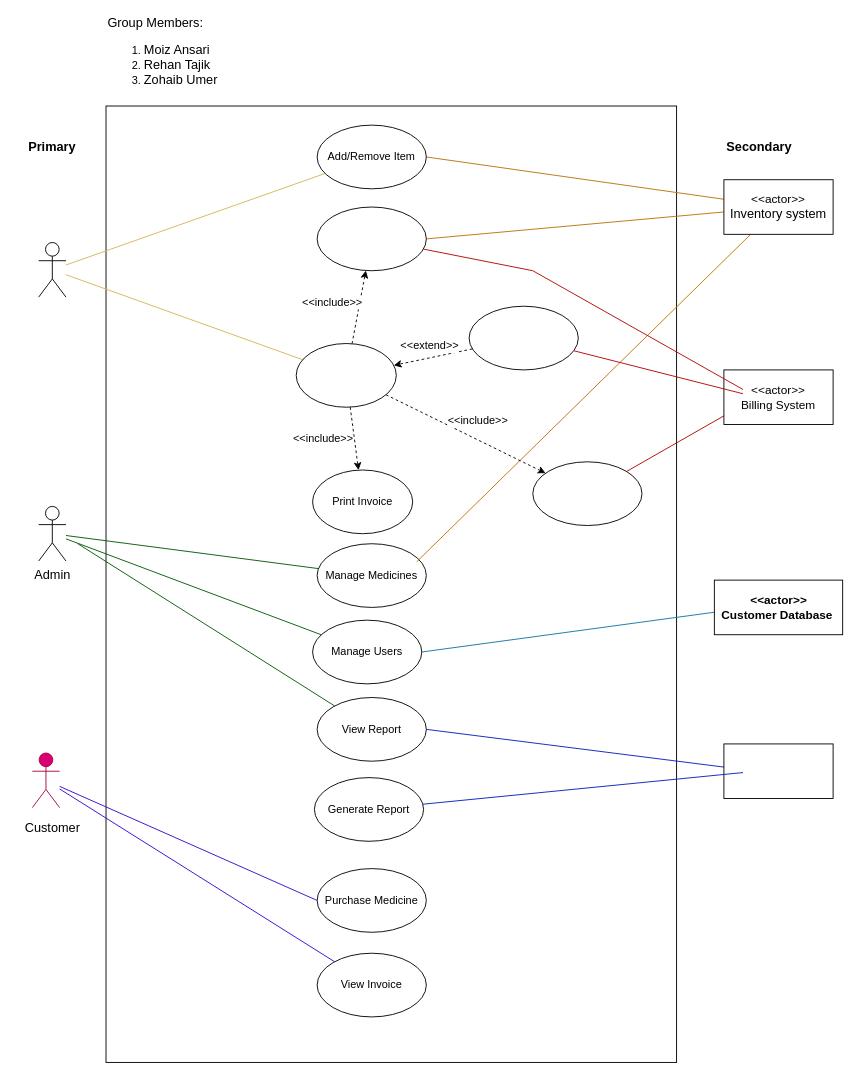
The diagram is 858 pixels wide and 1078 high, and some of its shapes have lost their labels. Here are the shapes that lost their labels. From the top down, the centre of each, then its label:
At [371,238]: "Create Bill".
At [52,269]: "Cashier".
At [523,337]: "Apply Discount".
At [345,375]: "Checkout".
At [587,493]: "Accept Payment".
At [778,771]: "<<actor>> Reporting System".
